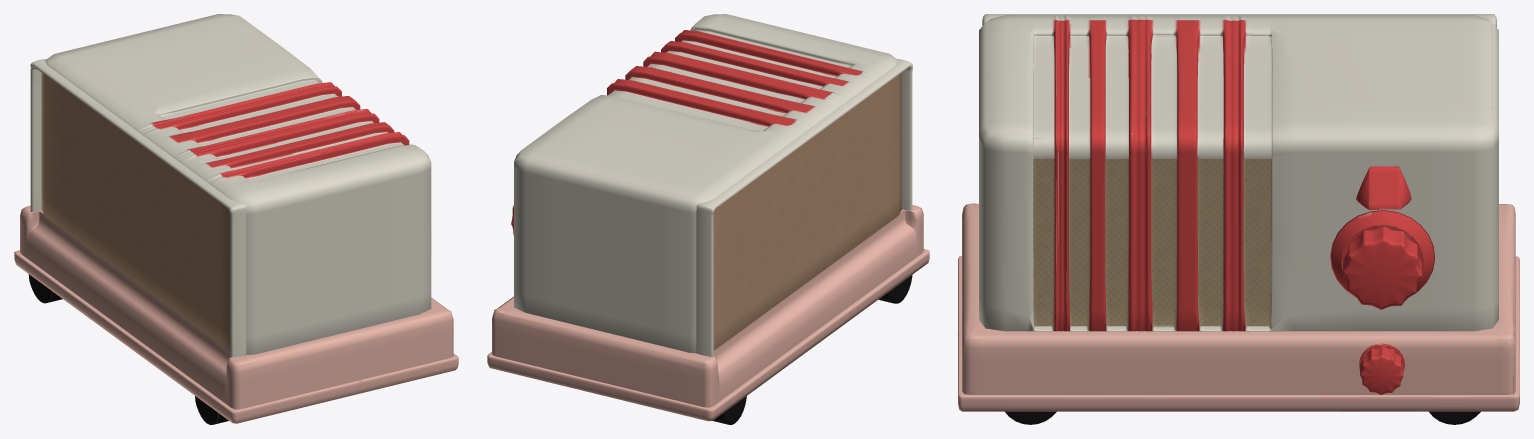
File: oldradio.fbx
3 views of the same model, side by side, from view 1: azimuth 30°, elevation 25°; view 2: azimuth 150°, elevation 25°; view 3: azimuth 270°, elevation 25° (orthographic). The views are drawn at different scales.
Parts seen in each view (by area): view 1: pPrism1; view 2: pPrism1; view 3: pPrism1.
Boxes of the visible parts, x1,y1,x2,y2 form: pPrism1: [14, 14, 458, 424]; pPrism1: [487, 14, 929, 424]; pPrism1: [958, 14, 1519, 424].
Bounding box in the file's own units: 25.22 × 39.42 × 22.98.
Materials: 1 (1 with a texture image).
